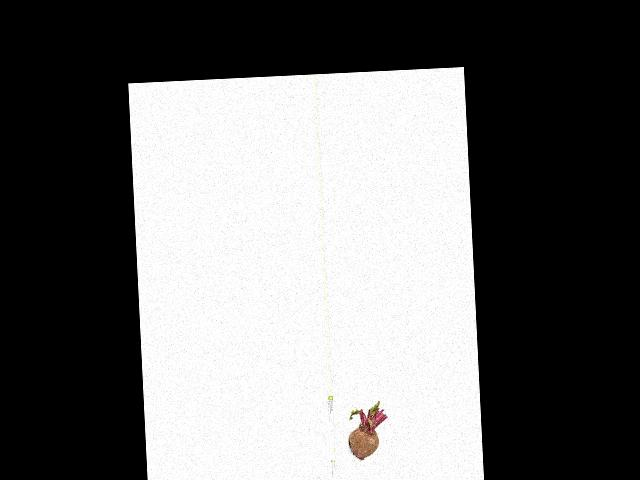beet: (347, 401, 389, 461)
